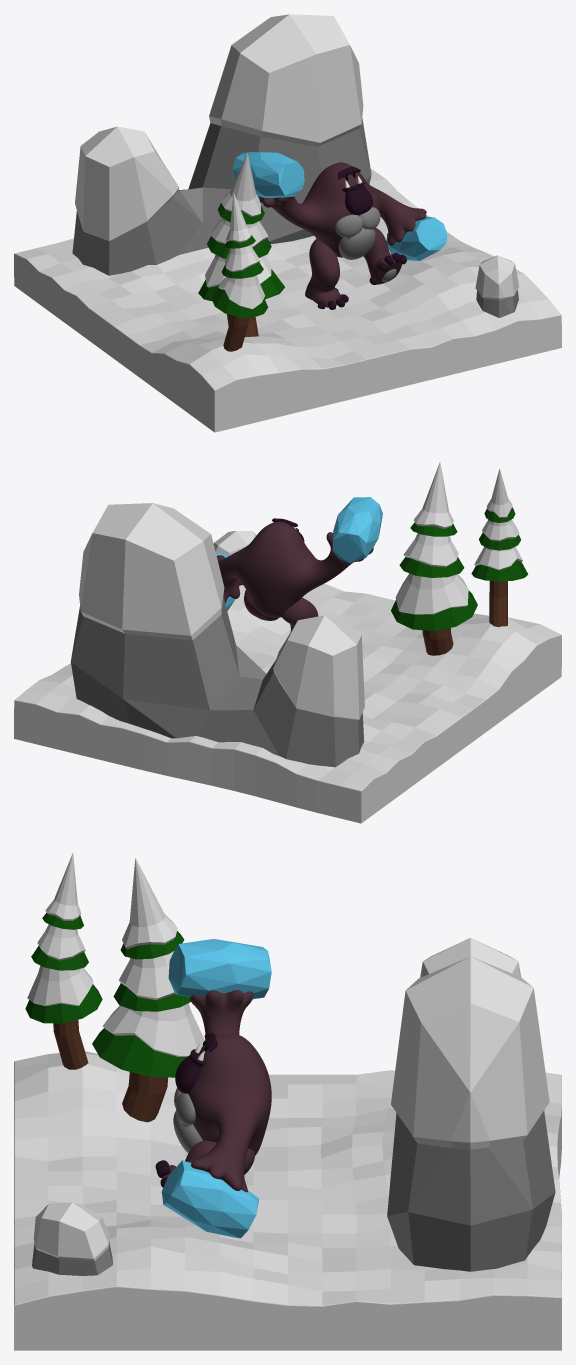
Rendered from Yeti.fbx.
The picture shows the model from 3 angles, top to bottom: view 1: azimuth 30°, elevation 25°; view 2: azimuth 150°, elevation 25°; view 3: azimuth 270°, elevation 25°; orthographic projection. The views are drawn at different scales.
Visible parts, largest first — view 1: Plane, Cube, Cube.001, Cone.001, Cone; view 2: Cube, Plane, Cube.001, Cone, Cone.001; view 3: Plane, Cube, Cube.001, Cone, Cone.001.
Part boxes in pixels (box(x1,y1,x2,y2)): Plane: box(14, 169, 561, 432); Cube: box(72, 14, 519, 317); Cube.001: box(232, 152, 447, 309); Cone.001: box(212, 193, 268, 351); Cone: box(198, 152, 284, 336); Cube: box(70, 503, 364, 767); Plane: box(14, 583, 561, 823); Cube.001: box(216, 497, 382, 631); Cone: box(391, 461, 477, 655); Cone.001: box(471, 468, 528, 627); Plane: box(14, 1051, 561, 1350); Cube: box(32, 937, 555, 1275); Cube.001: box(155, 939, 271, 1238); Cone: box(92, 858, 204, 1122); Cone.001: box(25, 853, 102, 1069).
Bounding box in the file's own units: 1001 × 652 × 1000.
